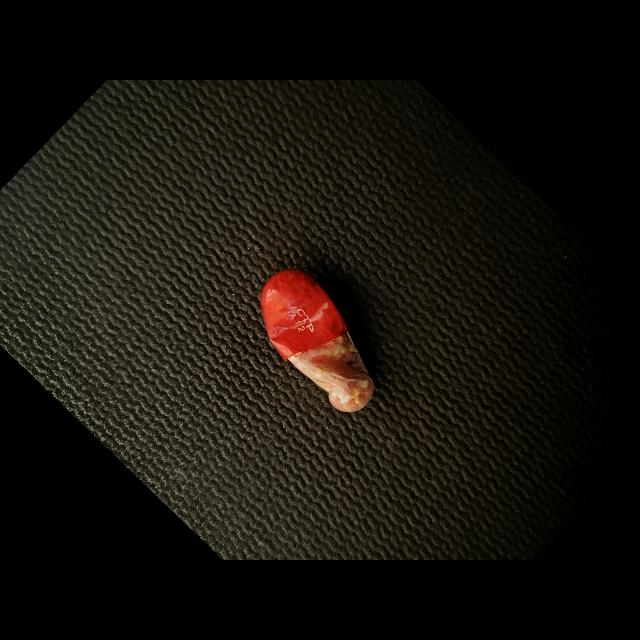Defective Capsule: (260, 270, 374, 413)
